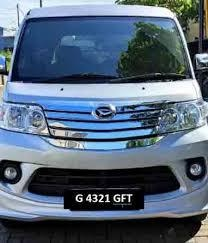plate: (68, 188, 140, 207)
